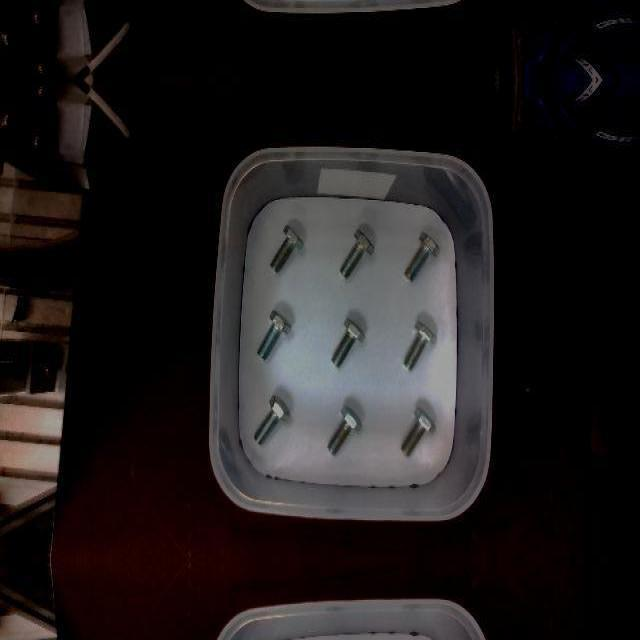screw: (404, 231, 441, 281), (400, 406, 436, 456), (339, 228, 374, 278), (255, 393, 290, 443), (327, 404, 362, 454), (257, 309, 291, 359), (331, 316, 365, 366), (403, 321, 437, 371), (270, 226, 303, 274)
